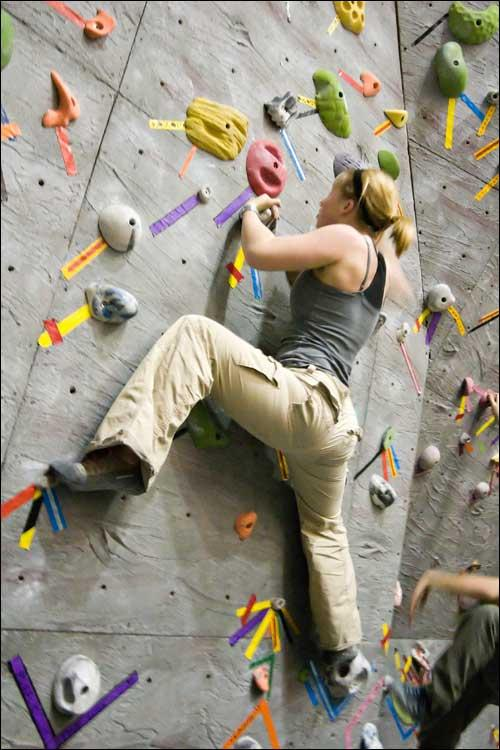person: (51, 166, 416, 703)
